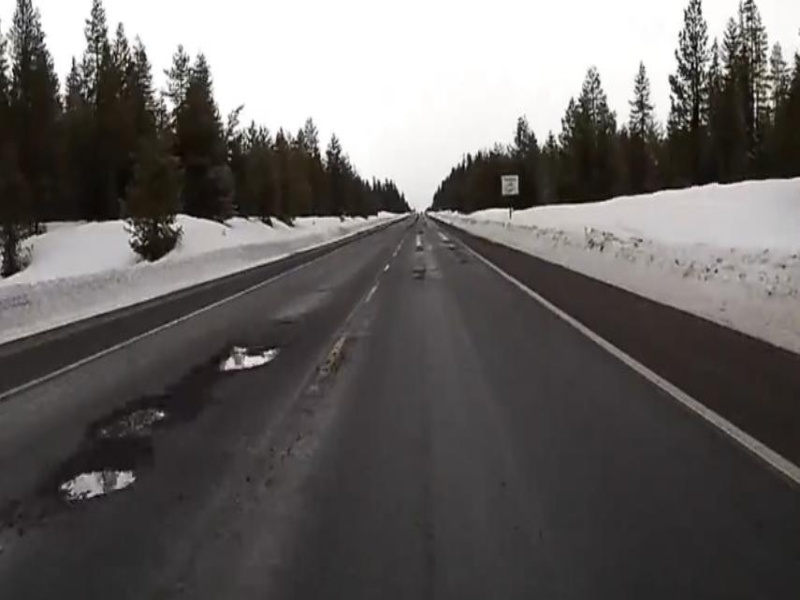pothole: (56, 462, 144, 509), (88, 403, 170, 442), (197, 344, 283, 377)
